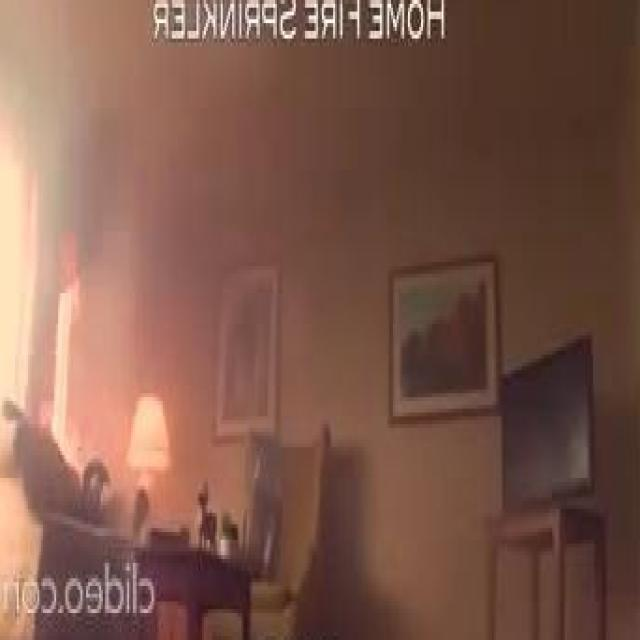smoke: (52, 285, 82, 478)
